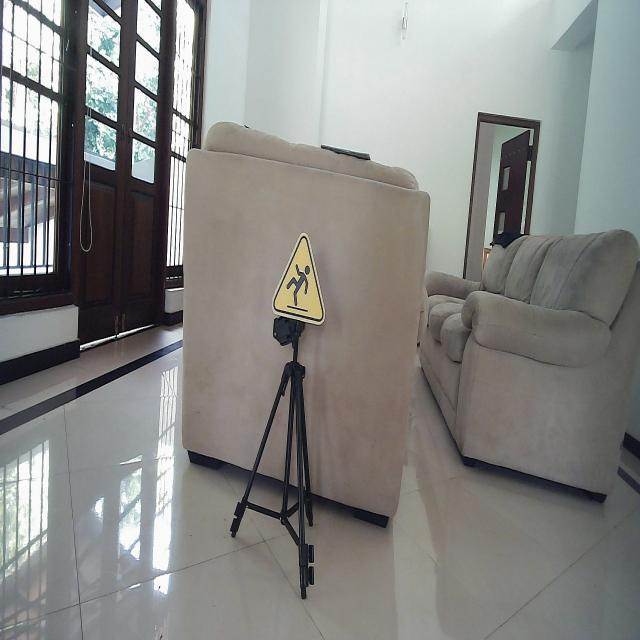slippery_sign: (271, 230, 327, 328)
